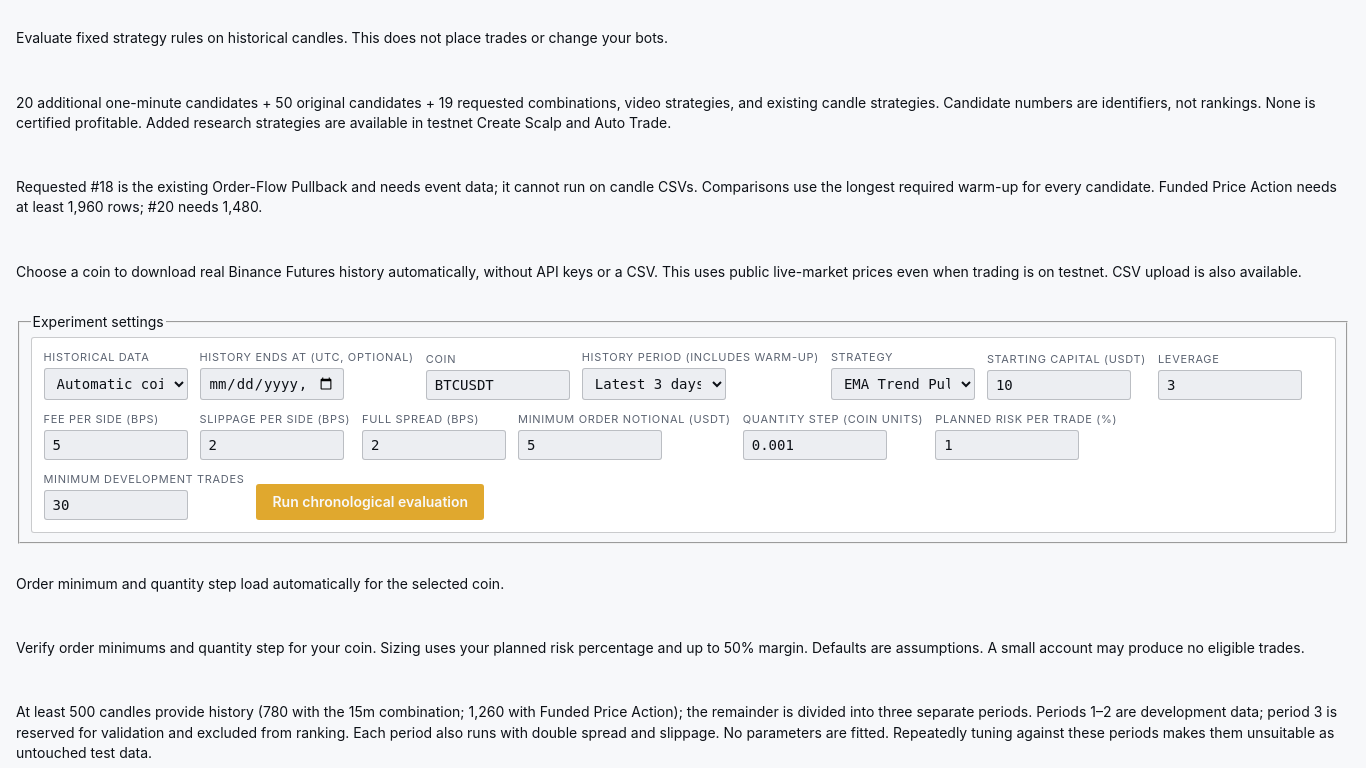
it: does not run without an uploaded dataset
(page scrolled)
Select "Upload CSV" in the dropdown labelled "Historical data" at (116, 384), box [44,368,188,400]
(page scrolled)
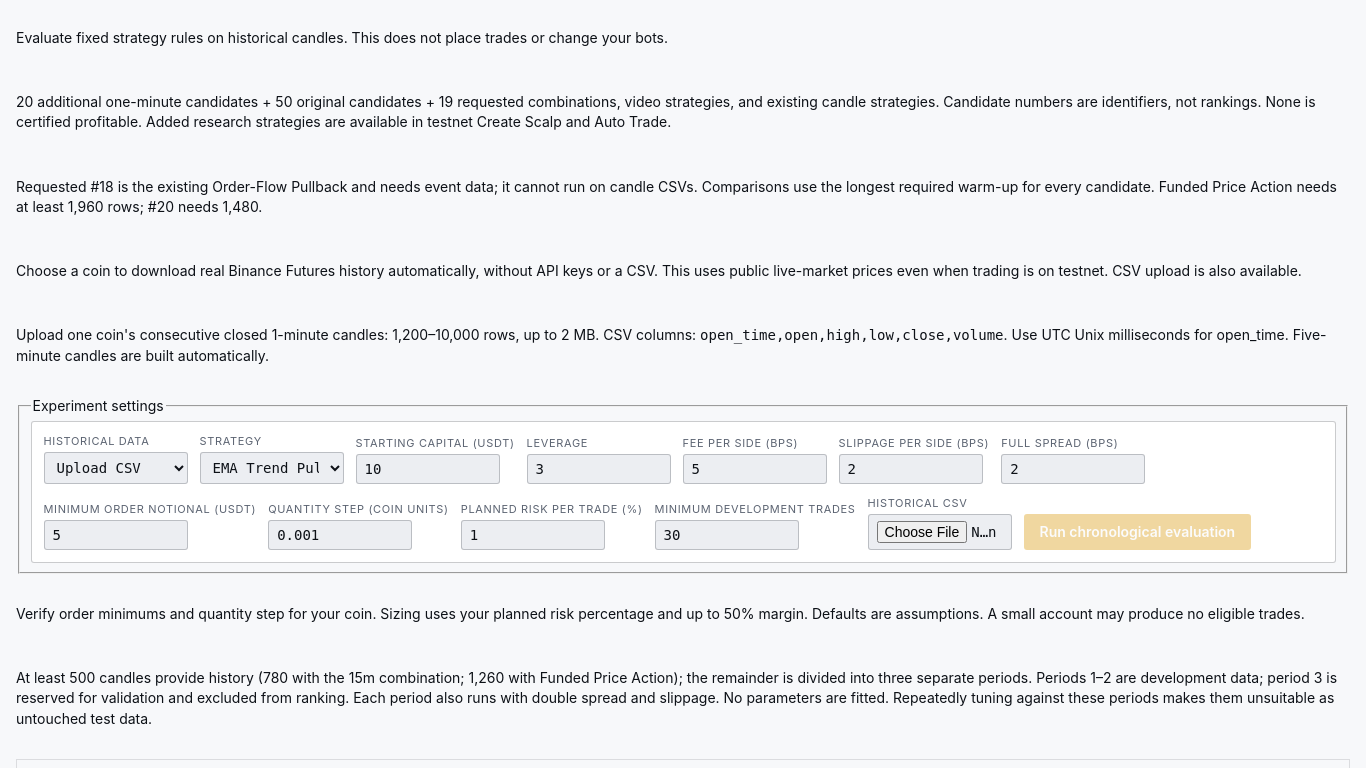
Result: the button "Run chronological evaluation" is disabled at [1024,514,1251,550]
